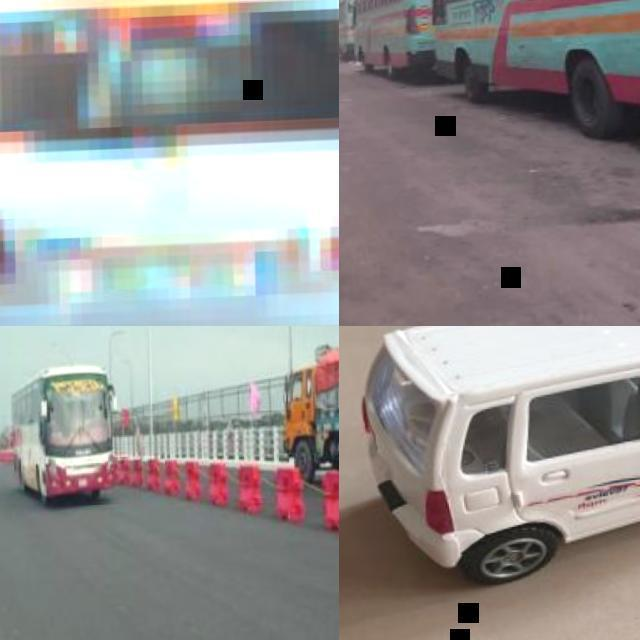car: (418, 1, 639, 141)
